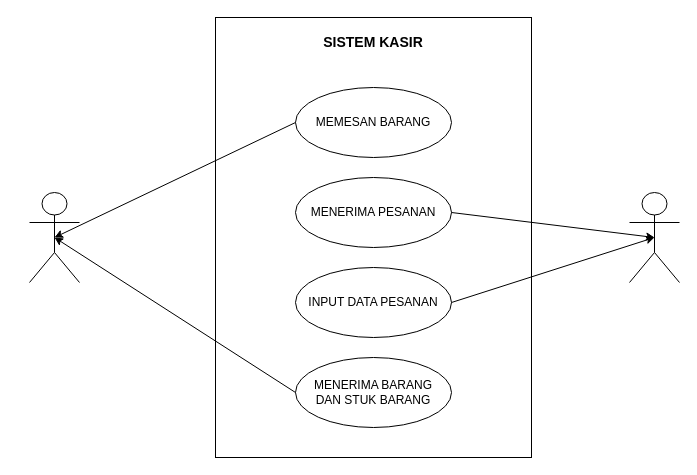
Some shapes in this 697 by 475 pixel diagram are drawn without their labels. The centre of each missing label's shape, as x and y in pixels:
KASIR: pixel 654 237
PELANGGAN: pixel 54 237
